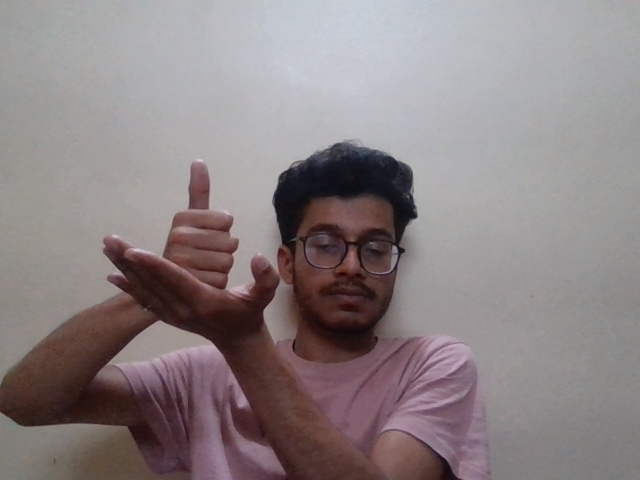help: (99, 155, 277, 359)
